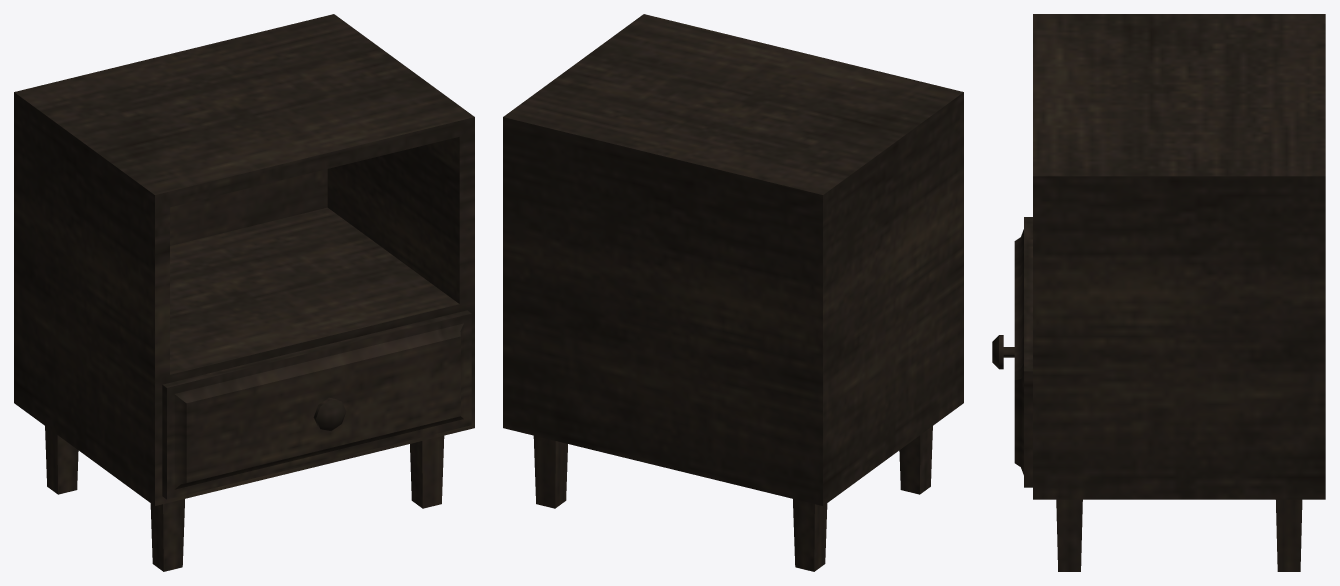
Rendered from bedside_table_2_2.fbx.
3 renders of one model, left to right at view 1: azimuth 30°, elevation 25°; view 2: azimuth 150°, elevation 25°; view 3: azimuth 270°, elevation 25°, orthographic. The views are drawn at different scales.
Parts seen in each view (by area): view 1: bedside_table_2_2, bedside_table_2_2_drawer; view 2: bedside_table_2_2; view 3: bedside_table_2_2, bedside_table_2_2_drawer.
Boxes of the visible parts, left/top/right/bottom form: bedside_table_2_2: left=14, top=14, right=474, bottom=571; bedside_table_2_2_drawer: left=162, top=310, right=471, bottom=499; bedside_table_2_2: left=503, top=14, right=963, bottom=571; bedside_table_2_2: left=1033, top=14, right=1325, bottom=571; bedside_table_2_2_drawer: left=992, top=217, right=1032, bottom=487.
Size of the model in its own units: 0.42 by 0.3645 by 0.49.
